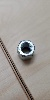Nut: (15, 38, 38, 63)
